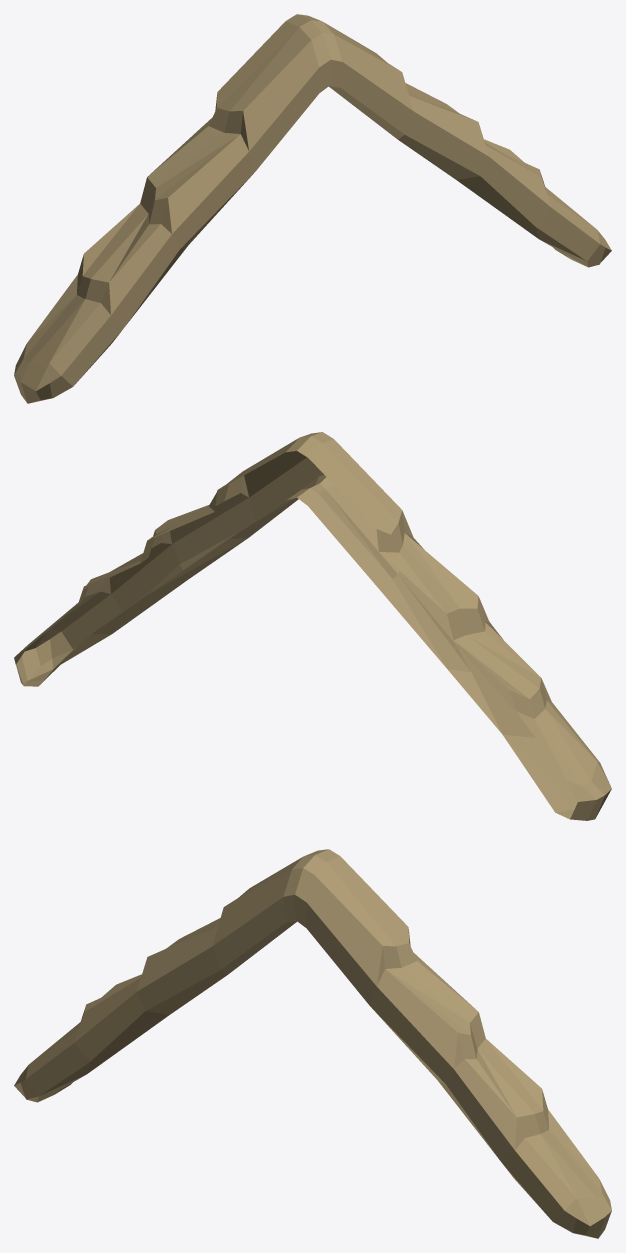
The model's file is rpgpp_ag_roof_02_6x3x3_end_01.fbx.
The picture shows the model from 3 angles, top to bottom: view 1: azimuth 30°, elevation 25°; view 2: azimuth 150°, elevation 25°; view 3: azimuth 330°, elevation 25°; orthographic projection.
Parts seen in each view (by area): view 1: rpgpp_ag_roof_02_6x3x3_end_01; view 2: rpgpp_ag_roof_02_6x3x3_end_01; view 3: rpgpp_ag_roof_02_6x3x3_end_01.
Boxes of the visible parts, x1,y1,x2,y2 form: rpgpp_ag_roof_02_6x3x3_end_01: (14,14,611,403); rpgpp_ag_roof_02_6x3x3_end_01: (14,432,611,820); rpgpp_ag_roof_02_6x3x3_end_01: (14,849,611,1238).
Bounding box in the file's own units: 8.11 × 4.17 × 0.8302.
